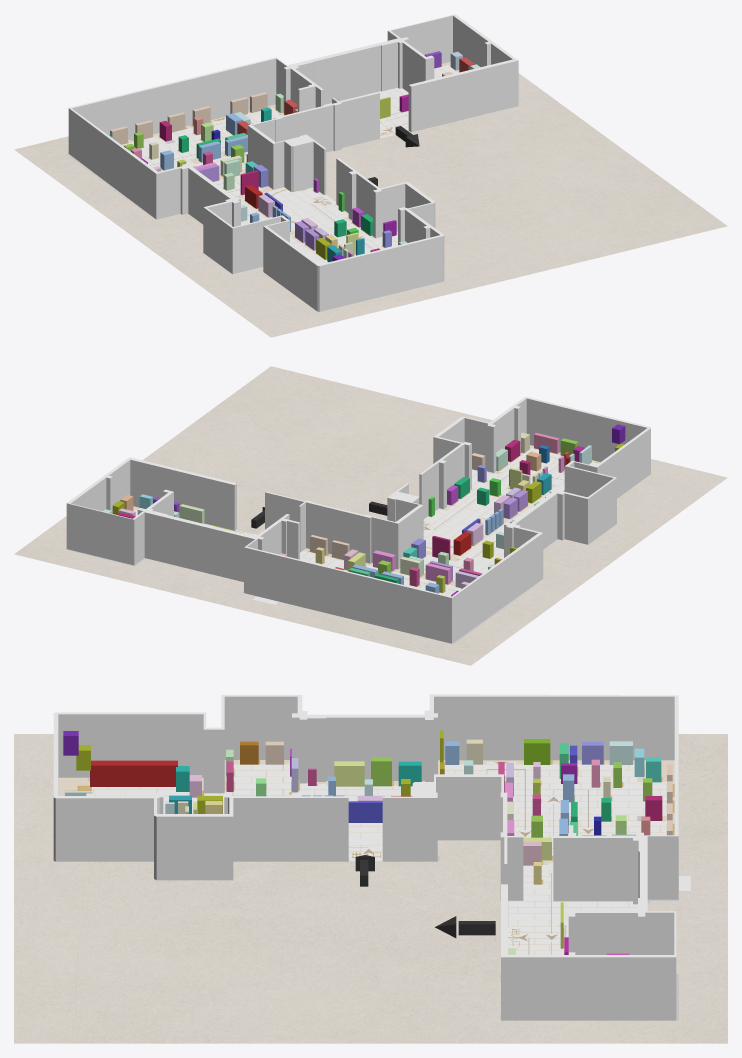
File: tao.gltf
The picture shows the model from 3 angles, top to bottom: view 1: azimuth 30°, elevation 25°; view 2: azimuth 150°, elevation 25°; view 3: azimuth 270°, elevation 25°; orthographic projection. The views are drawn at different scales.
Parts seen in each view (by area): view 1: Plane001, Line001, Line002; view 2: Plane001, Line001, Line002; view 3: Plane001, Line001, Line002, Box102, Box086, Box092, Box062, Box085, Box133.
Part boxes in pixels (bbox=[...]): Plane001: bbox=[14, 62, 727, 337]; Line001: bbox=[68, 14, 518, 311]; Line002: bbox=[248, 92, 379, 194]; Plane001: bbox=[14, 366, 727, 665]; Line001: bbox=[66, 396, 650, 643]; Line002: bbox=[265, 483, 423, 569]; Plane001: bbox=[14, 734, 727, 1043]; Line001: bbox=[53, 694, 678, 1020]; Line002: bbox=[382, 774, 523, 900]; Box102: bbox=[90, 760, 177, 786]; Box086: bbox=[334, 761, 364, 786]; Box092: bbox=[348, 801, 382, 822]; Box062: bbox=[524, 739, 550, 764]; Box085: bbox=[371, 757, 391, 786]; Box133: bbox=[458, 921, 495, 935].
Bounding box in the file's own units: 105 × 10 × 102.
60 materials, 1 textured.
